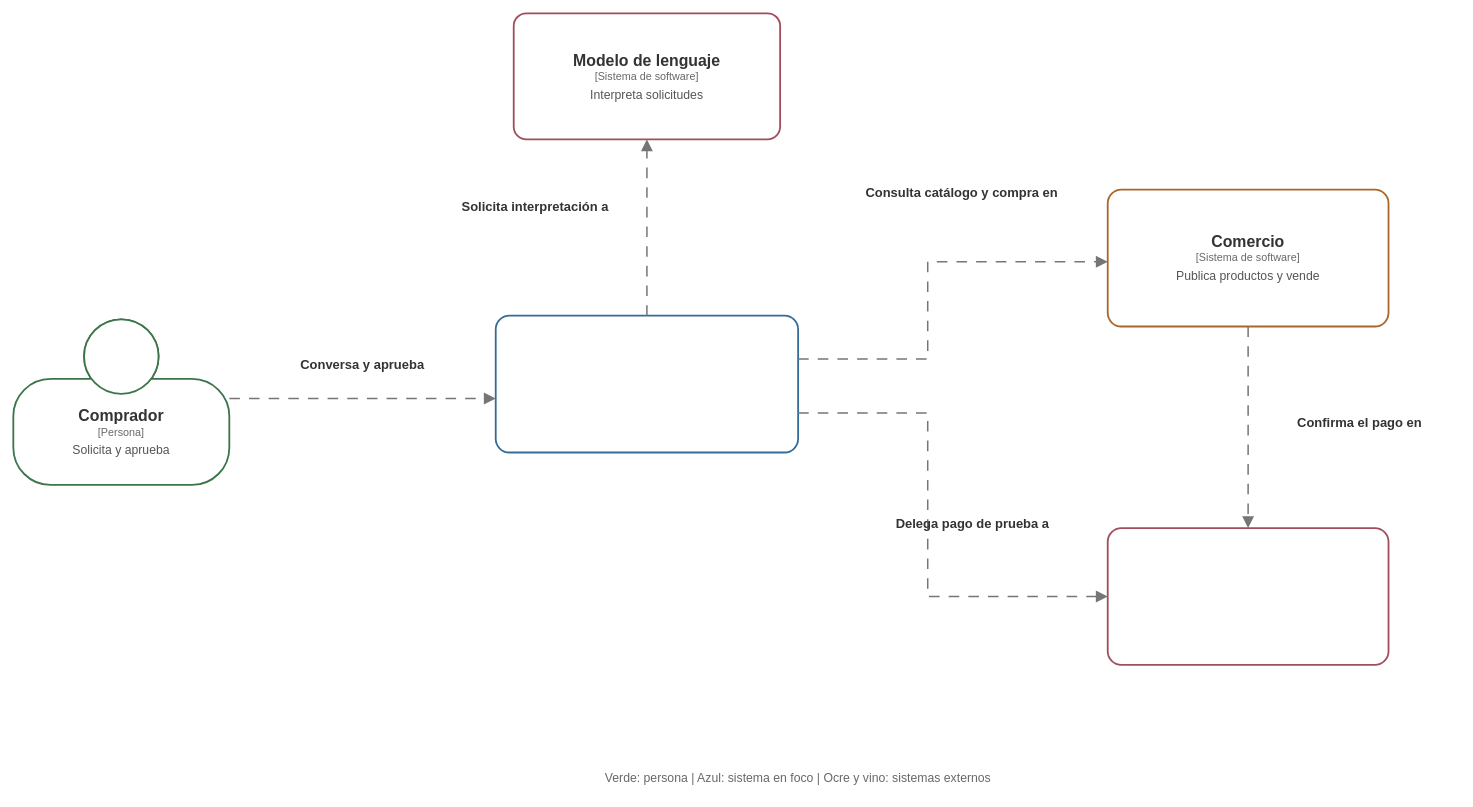
The diagram is 1473 pixels wide and 807 high, and some of its shapes have lost their labels. The centre of each missing label's shape, as x and y in pixels:
Agente comprador [Sistema de software] Coordina compras asistidas: (646,383)
Proveedor de pago [Sistema de software] Procesa pagos de prueba: (1247,596)
